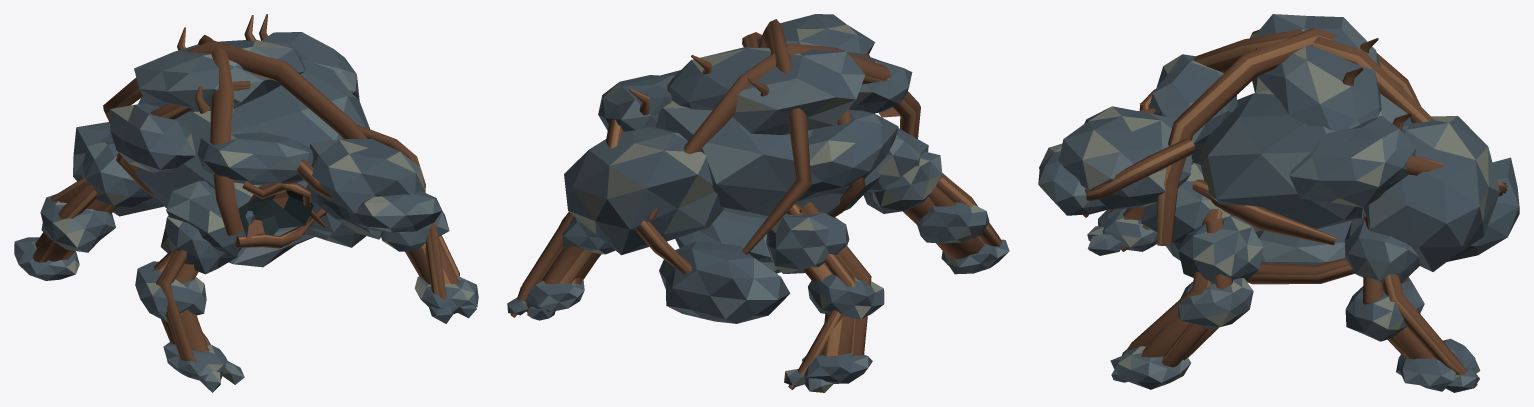
Rendered from riftroot_tangle.glb.
3 views of the same model, side by side, from view 1: azimuth 30°, elevation 25°; view 2: azimuth 150°, elevation 25°; view 3: azimuth 270°, elevation 25° (orthographic). The views are drawn at different scales.
Parts seen in each view (by area): view 1: Main fused shale carapace, Crown shear slab, Lifting wedge central face, Cavity crooked brow, Left shell spur, Crossing braid, Left cavity jaw, Main scar root, Wedge pointed outer lamina, Rear_Left shoulder shale, Rear_Left low knee shell, Asymmetric exposed cavity (+22 smaller); view 2: Rear shell mass, Crown shear slab, Main fused shale carapace, Rear dragged stone, Left shell spur, Main scar root, Rear_Left shoulder shale, Crossing braid, Right shell spur, Front_Left shoulder shale, Lifting wedge central face, Rear_Left low knee shell (+17 smaller); view 3: Rear shell mass, Main fused shale carapace, Crown shear slab, Lifting wedge central face, Right shell spur, Crossing braid, Front_Right shoulder shale, Main scar root, Cavity crooked brow, Rear_Right shoulder shale, Front_Right low knee shell, Submerged underside keel (+19 smaller).
Part boxes in pixels (x1,y1,x2,y2): Main fused shale carapace: (136, 59, 369, 207); Crown shear slab: (134, 39, 305, 112); Lifting wedge central face: (308, 138, 424, 212); Cavity crooked brow: (197, 132, 313, 185); Left shell spur: (110, 103, 195, 172); Crossing braid: (103, 40, 367, 139); Left cavity jaw: (166, 181, 254, 256); Main scar root: (198, 34, 243, 235); Wedge pointed outer lamina: (347, 190, 442, 232); Rear_Left shoulder shale: (81, 141, 153, 207); Rear_Left low knee shell: (40, 194, 115, 252); Asymmetric exposed cavity: (238, 183, 313, 240); Rear shell mass: (564, 127, 723, 255); Crown shear slab: (667, 47, 865, 134); Main fused shale carapace: (655, 70, 880, 218); Rear dragged stone: (659, 241, 790, 323); Left shell spur: (791, 110, 898, 201); Main scar root: (647, 43, 920, 221); Rear_Left shoulder shale: (766, 212, 849, 273); Crossing braid: (742, 19, 811, 254); Right shell spur: (598, 75, 671, 131); Front_Left shoulder shale: (863, 151, 942, 213); Lifting wedge central face: (757, 14, 874, 54); Rear_Left low knee shell: (808, 274, 884, 319); Rear shell mass: (1359, 116, 1499, 271); Main fused shale carapace: (1191, 87, 1412, 229); Crown shear slab: (1253, 14, 1381, 131); Lifting wedge central face: (1058, 106, 1191, 209); Right shell spur: (1289, 115, 1415, 207); Crossing braid: (1157, 28, 1420, 246); Front_Right shoulder shale: (1178, 216, 1263, 283); Main scar root: (1194, 29, 1433, 122); Cavity crooked brow: (1149, 54, 1237, 145); Rear_Right shoulder shale: (1344, 218, 1420, 283); Front_Right low knee shell: (1178, 278, 1253, 329); Submerged underside keel: (1259, 219, 1358, 264).
Size of the model in its own units: 4.24 by 3.07 by 4.97.
